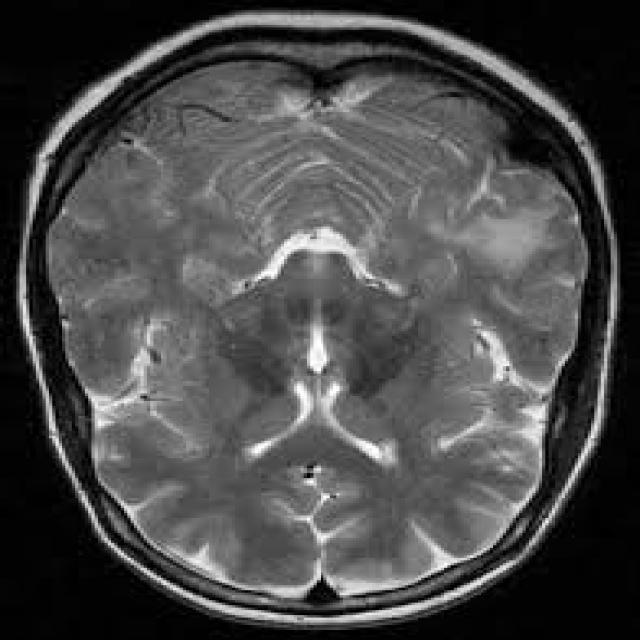notumor: (16, 12, 624, 633)
